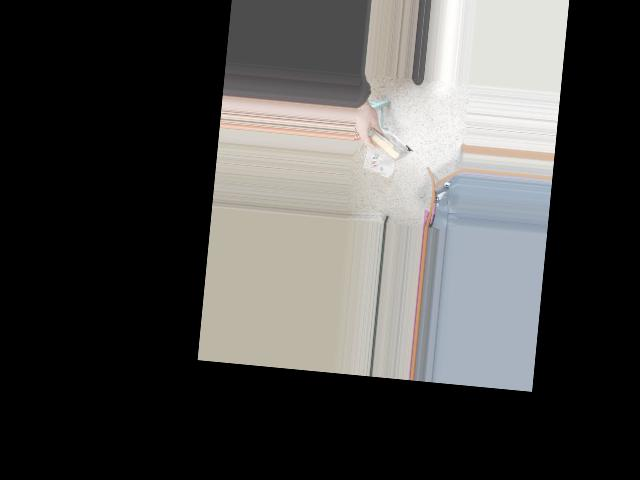cheese: (354, 122, 415, 163)
